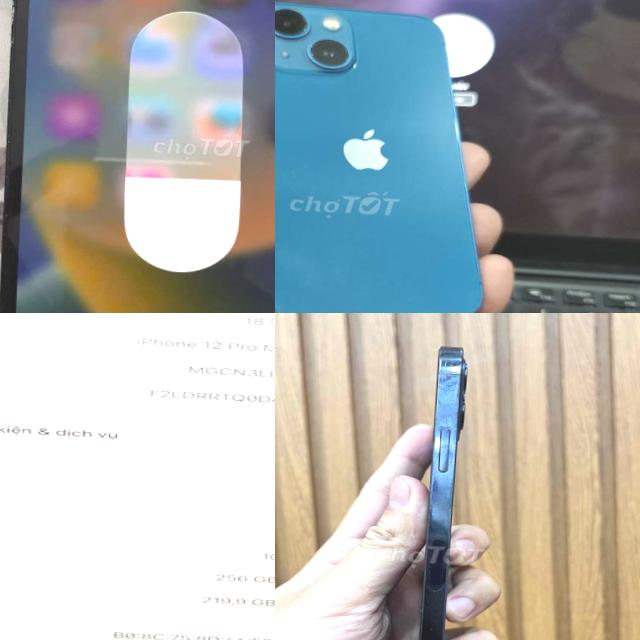scratch: (430, 371, 466, 431)
